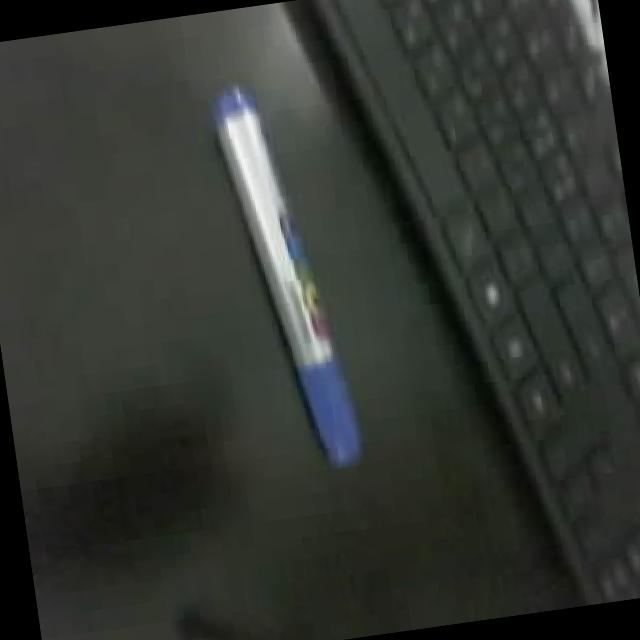board-marker: (216, 84, 362, 464)
